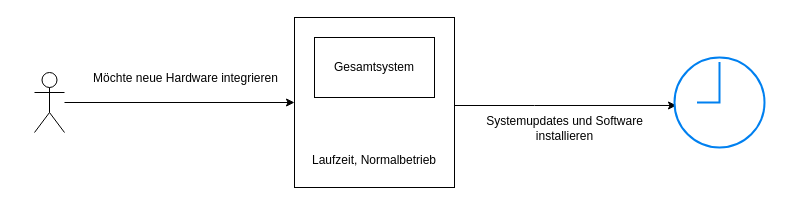
This 806x205 diagram has some shape labels left out. The shapes that lost their labels are listed below. From the top down, each one's box as (x1, y1, x2, y2) in pixels, then its label:
(34, 72, 64, 132): IT-Abteilung
(673, 56, 765, 148): Fertig in kleinem Zeitraum
